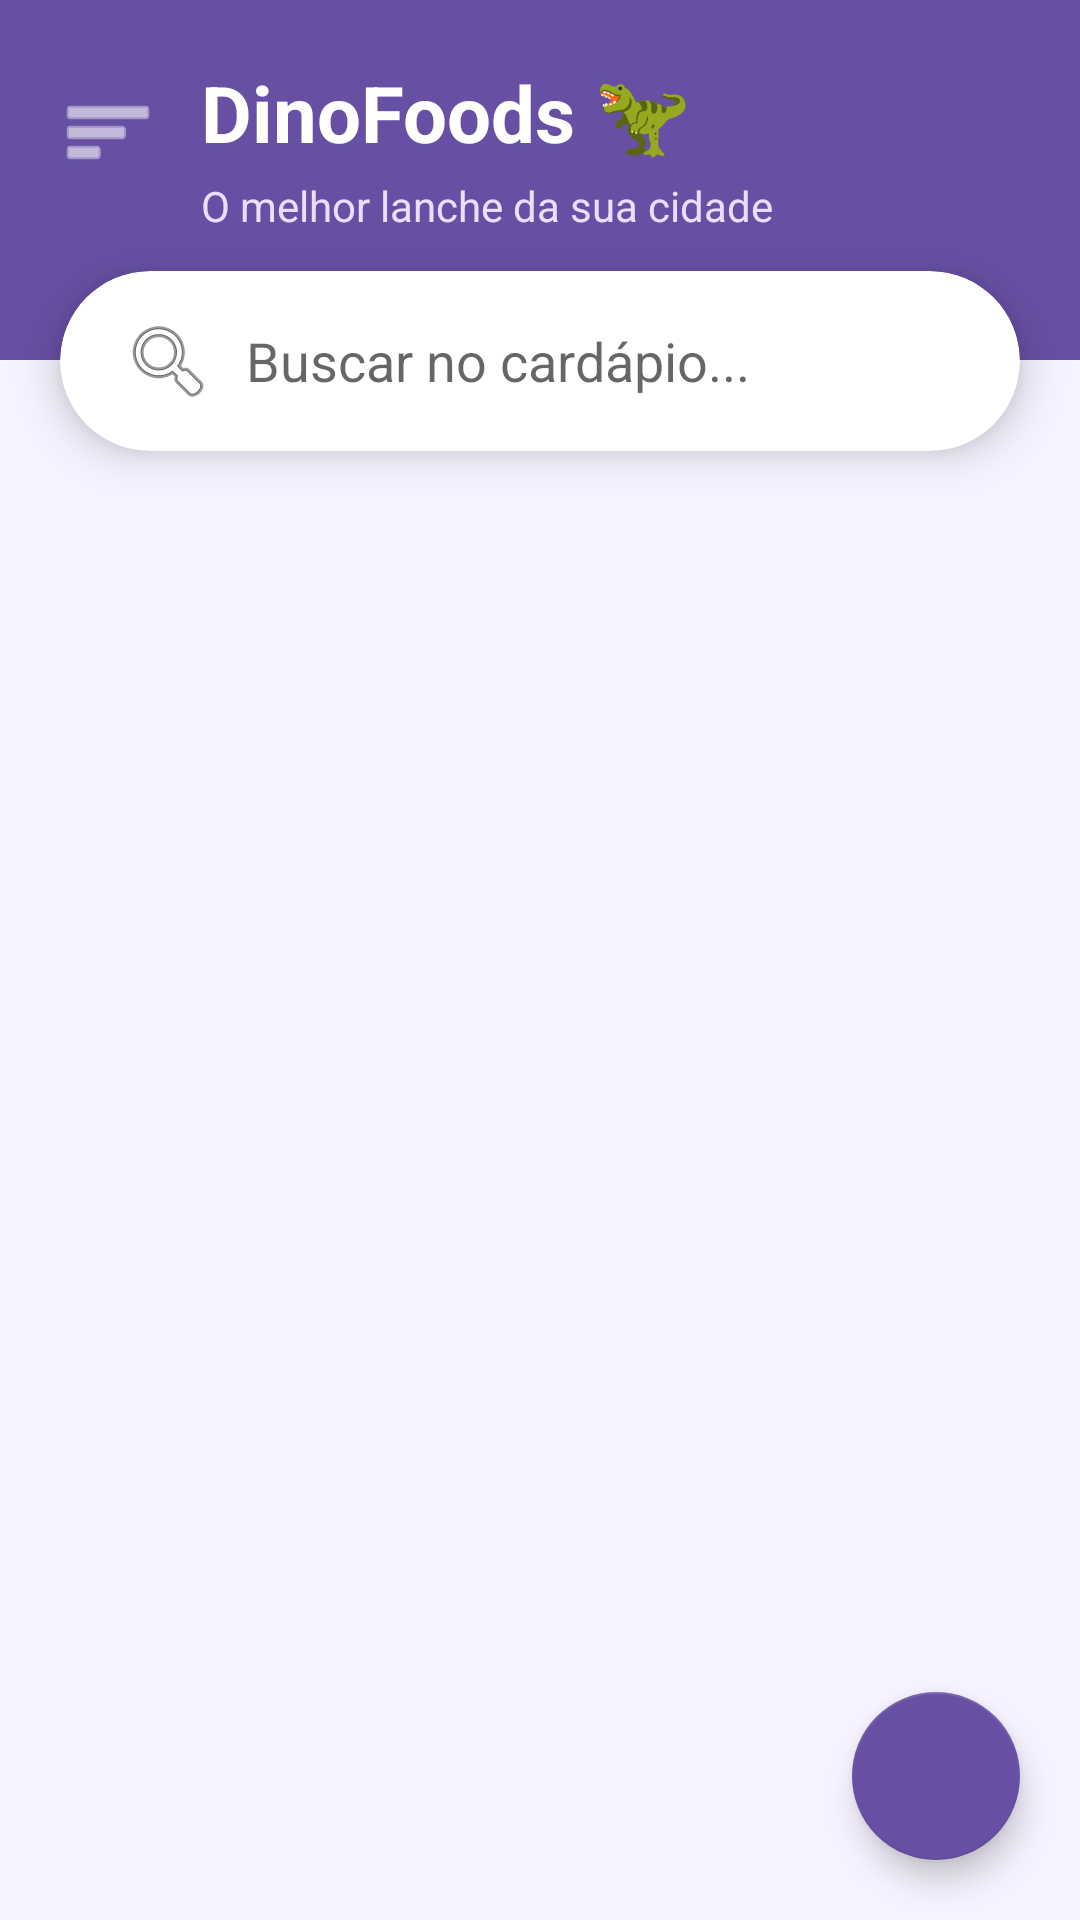

Icon click points for this 1080 x 1920 phone screenshot, format (x,y):
sort by size: (108,132)
